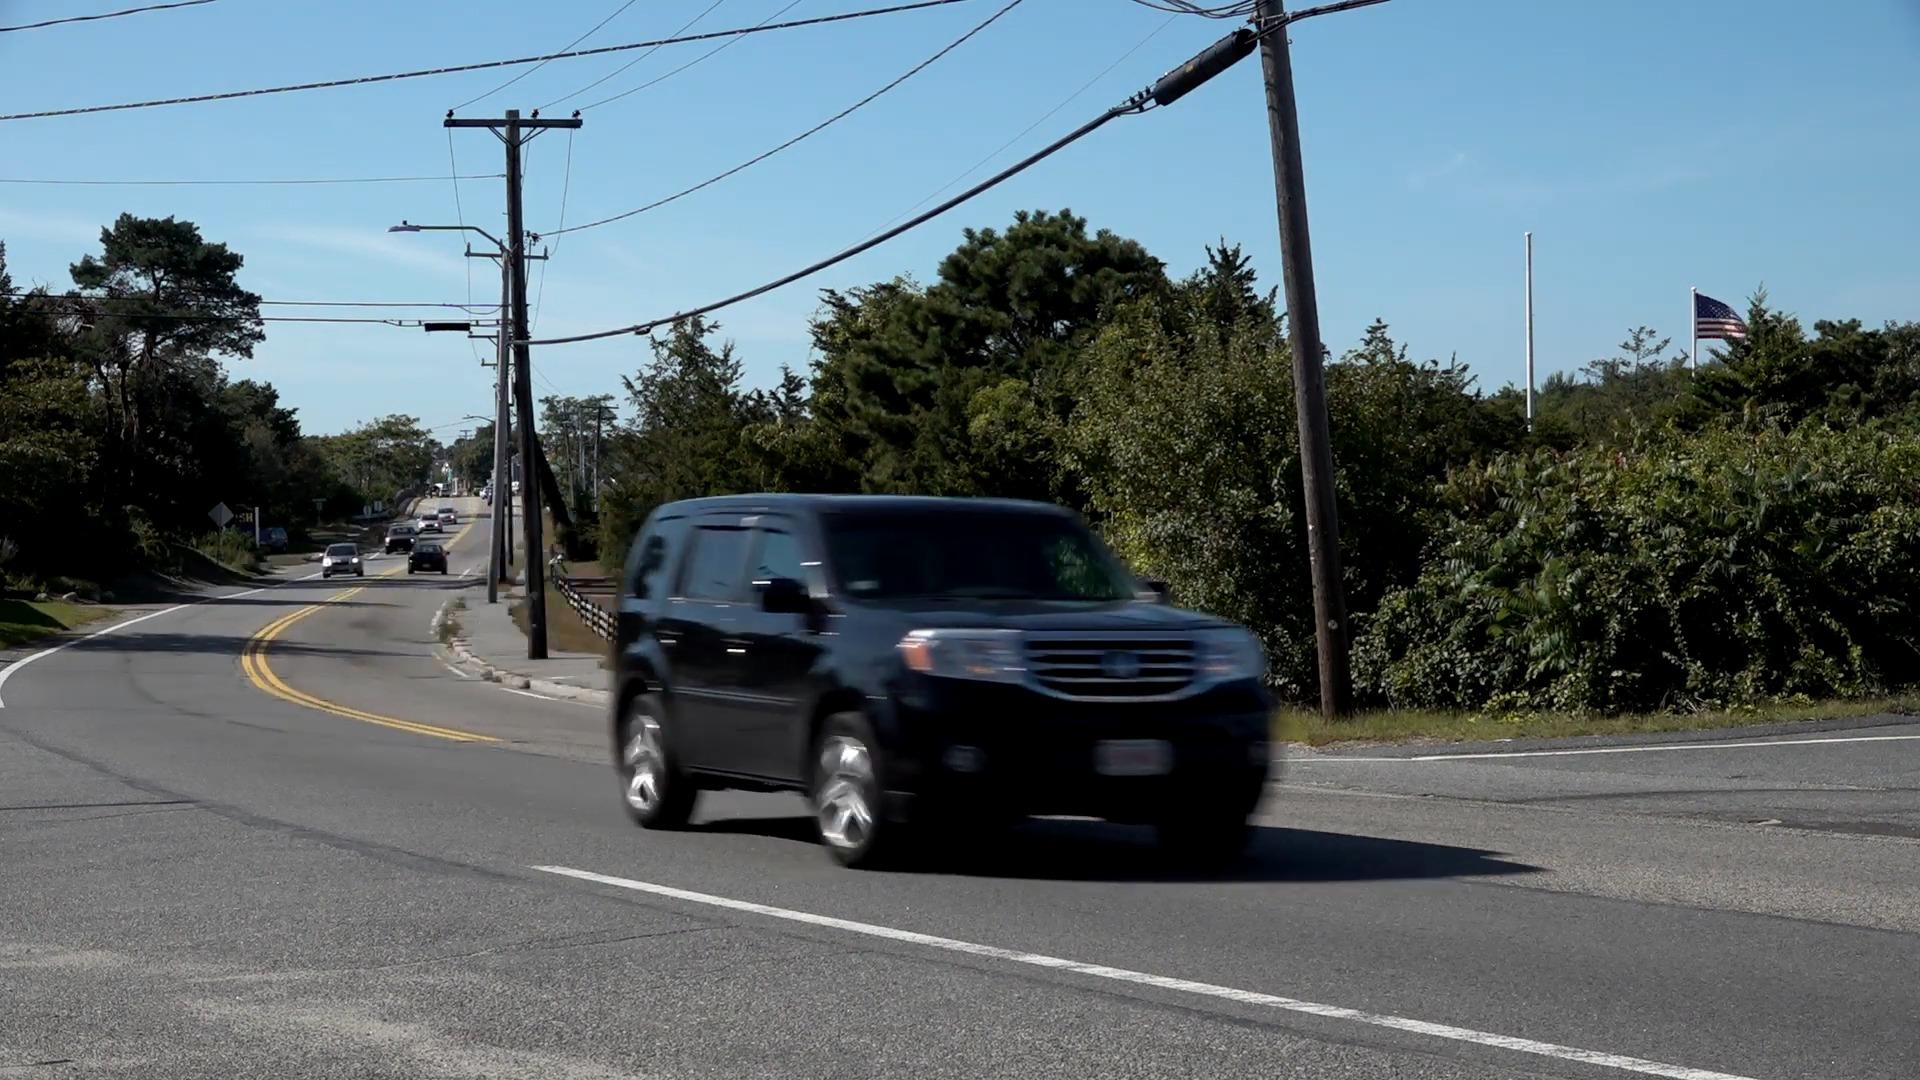suv: (613, 487, 1274, 874)
